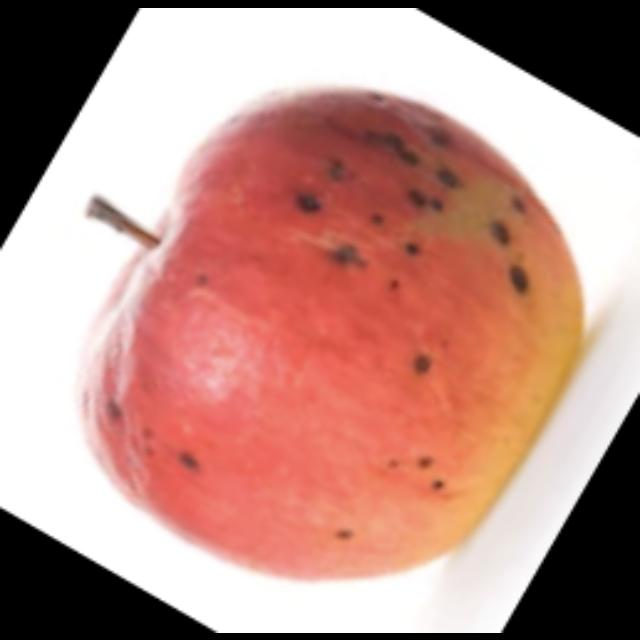Apel Tidak Segar: (69, 71, 593, 591)
